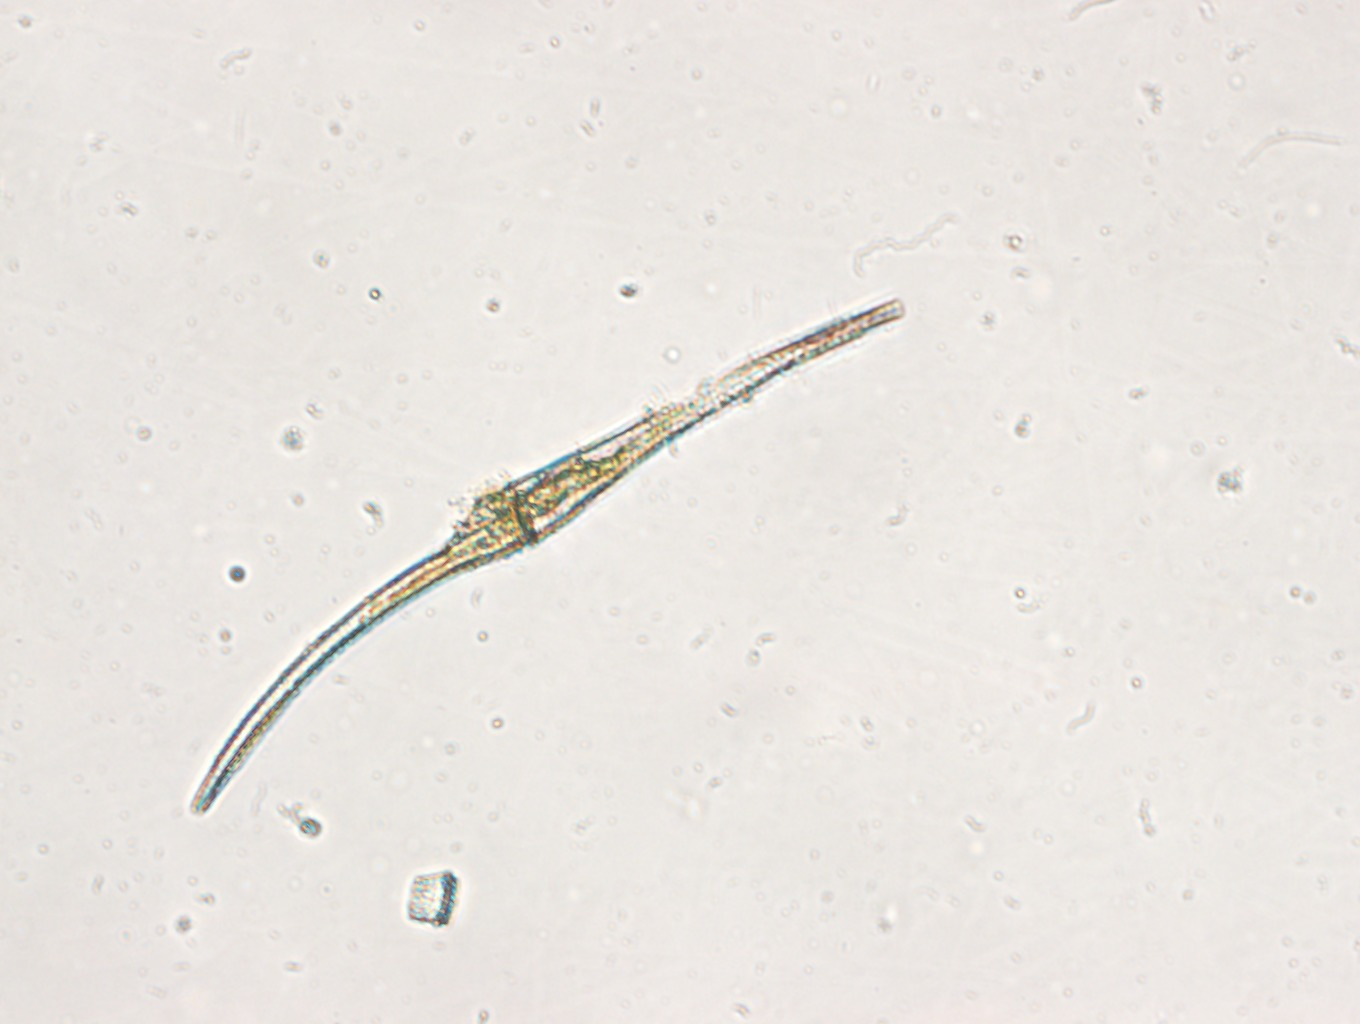ceratium fusus: (170, 294, 913, 817)
